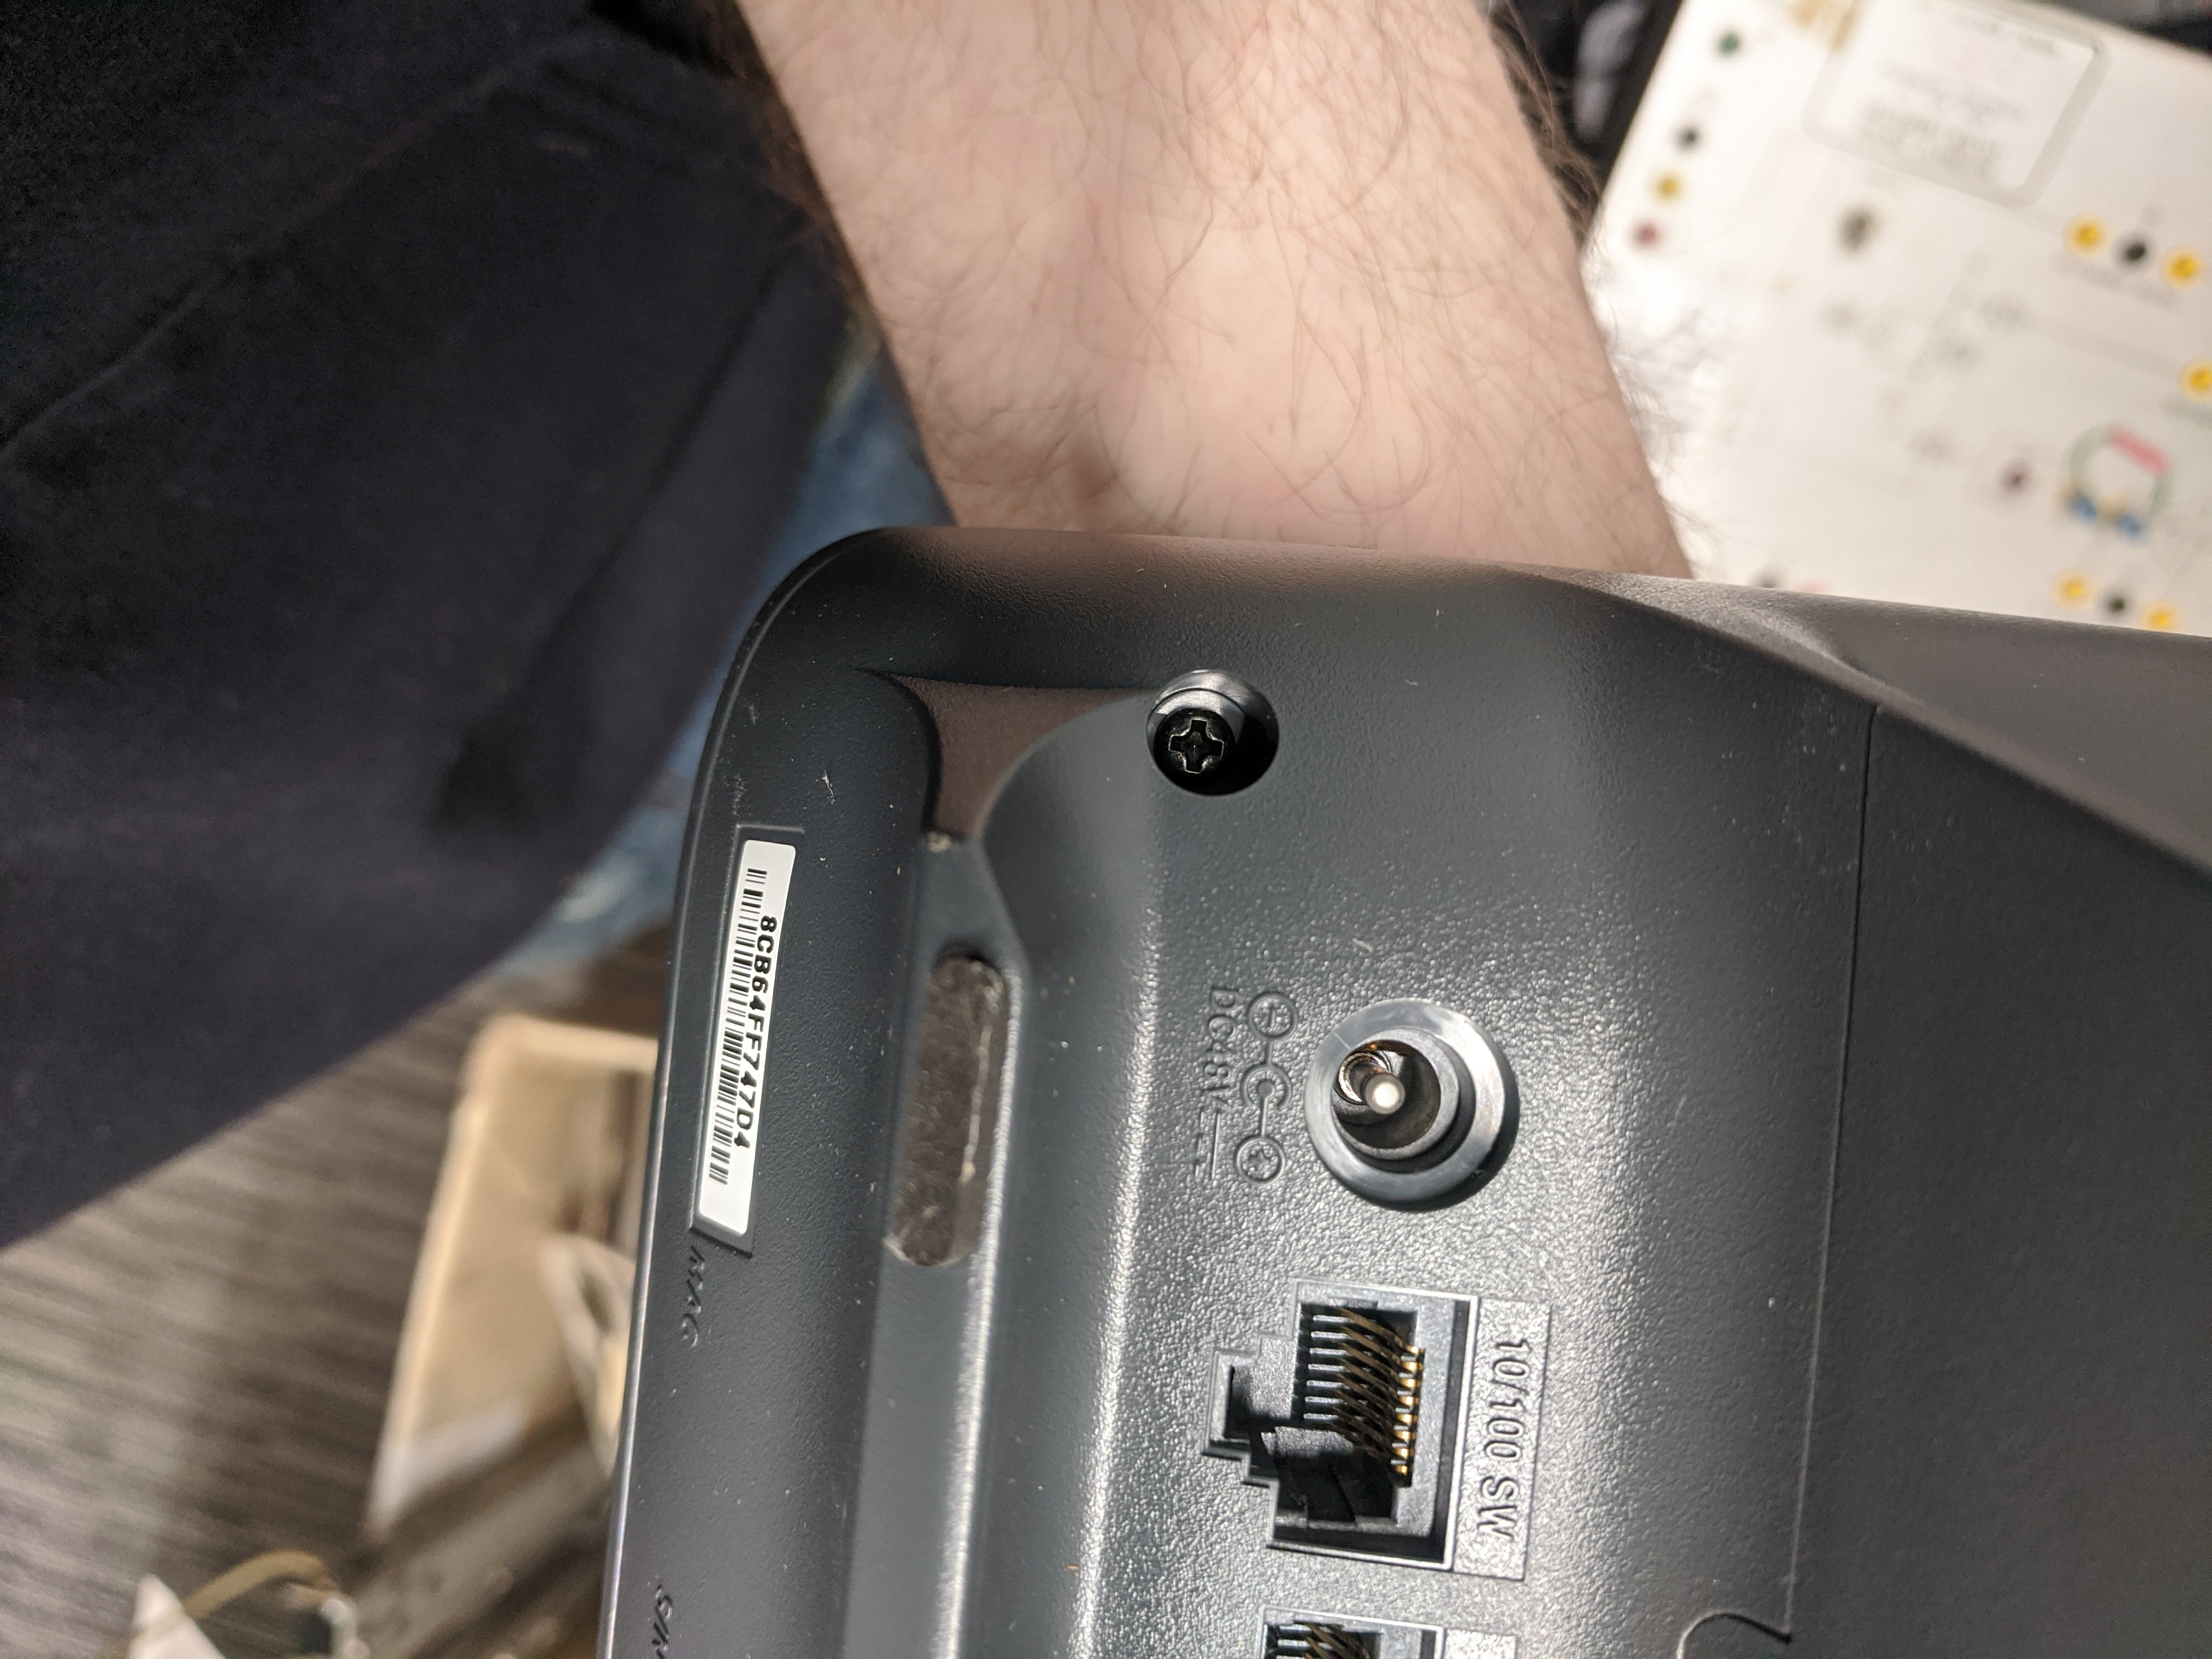cross_recessed_screw: (1155, 687, 1252, 789)
